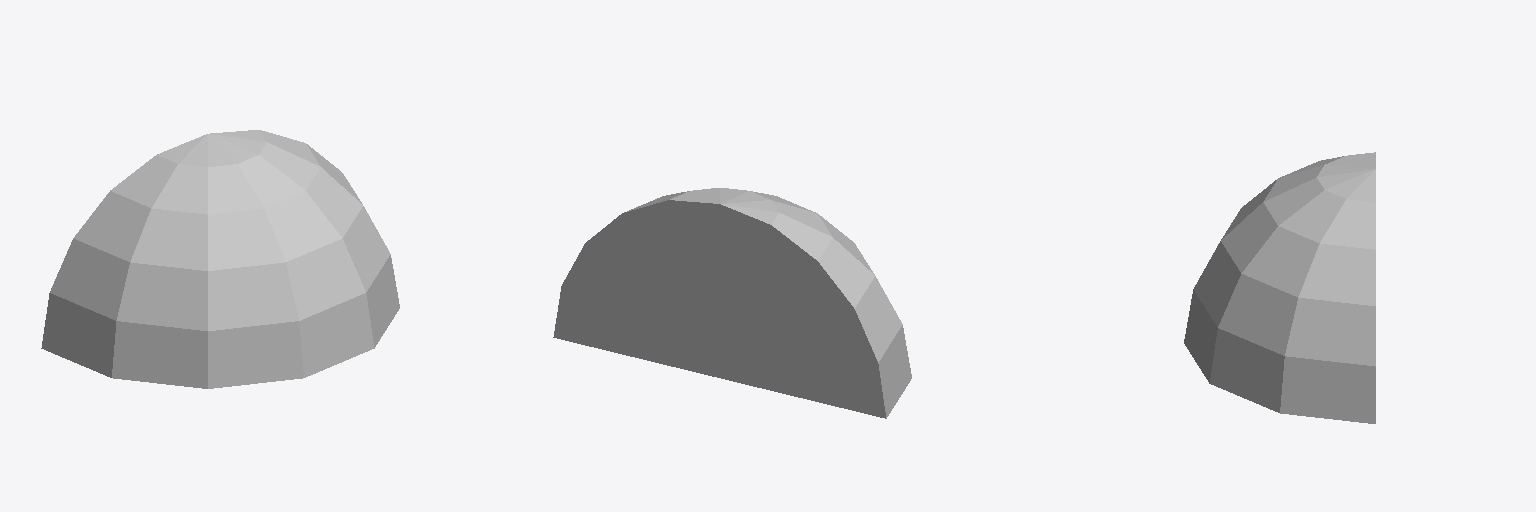
Rendered from Naranja-1_4A.obj.
3 views of the same model, side by side, from view 1: azimuth 30°, elevation 25°; view 2: azimuth 150°, elevation 25°; view 3: azimuth 270°, elevation 25° (orthographic).
Visible parts, largest first — view 1: Naranja-1_4A_Sphere.004; view 2: Naranja-1_4A_Sphere.004; view 3: Naranja-1_4A_Sphere.004.
Boxes of the visible parts, x1,y1,x2,y2 form: Naranja-1_4A_Sphere.004: [41, 130, 399, 388]; Naranja-1_4A_Sphere.004: [553, 188, 911, 418]; Naranja-1_4A_Sphere.004: [1184, 152, 1375, 423].
Size of the model in its own units: 2 by 1 by 1.